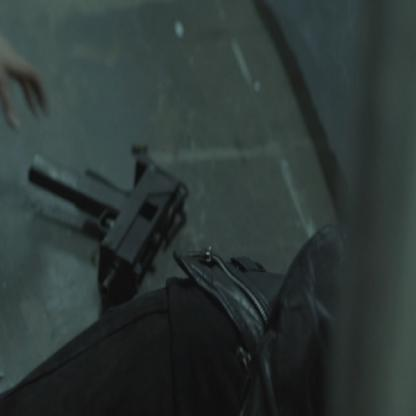Guns: (24, 140, 191, 300)
